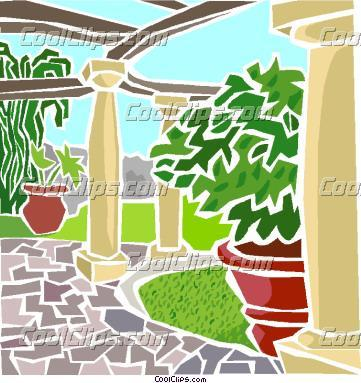pottedplant: (144, 49, 312, 360), (18, 140, 85, 238)
